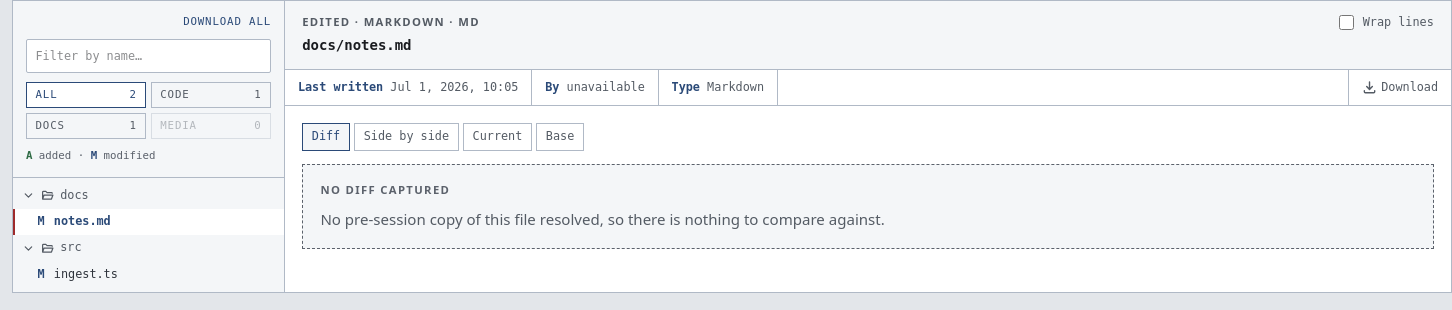
Test: S48: captured artifacts are listed by relative path and selecting one shows it in the viewer
Check: the button "docs" is shown, box x1=13 y1=182 x2=284 y2=208
Check: the button "src" is shown, box x1=13 y1=235 x2=284 y2=261
Click the button "M ingest.ts": click(55, 282) x1=13 y1=261 x2=284 y2=288
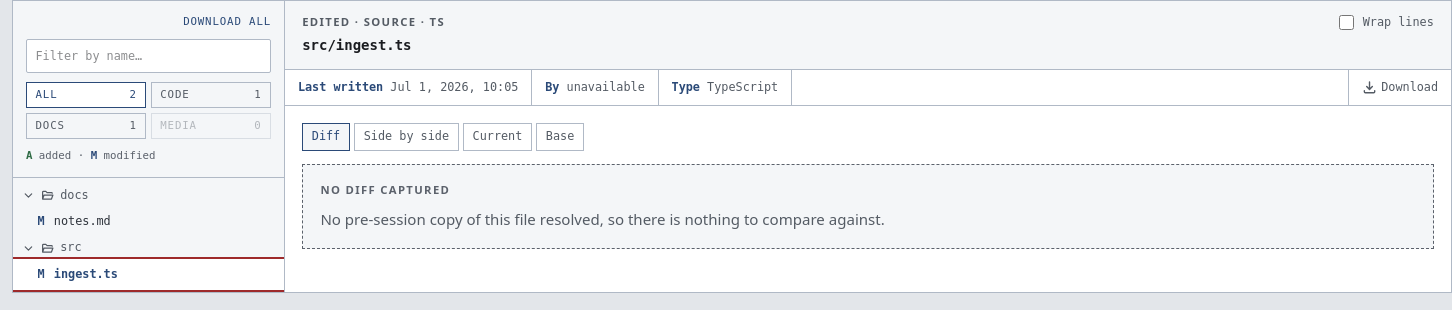
Check: the heading "src/ingest.ts" is shown, box x1=302 y1=37 x2=412 y2=53
